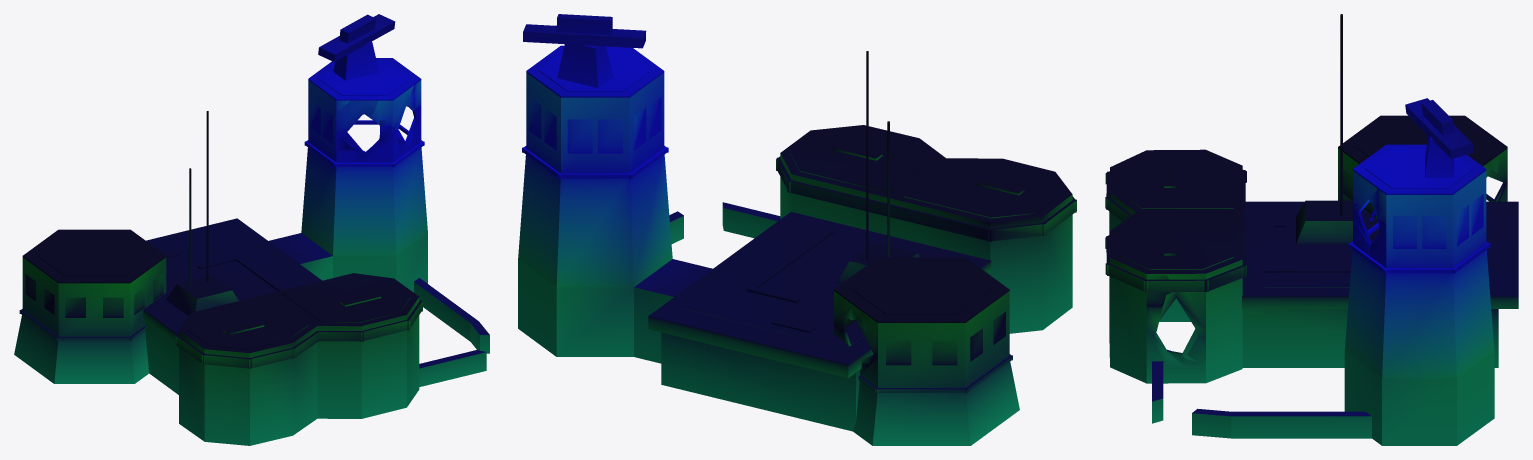
File: s_turretcontrol_damaged.glb
3 views of the same model, side by side, from view 1: azimuth 30°, elevation 25°; view 2: azimuth 150°, elevation 25°; view 3: azimuth 270°, elevation 25° (orthographic). The views are drawn at different scales.
Parts seen in each view (by area): view 1: lod0_S_TurretControl, lod1_S_TurretControl, lod0_Radar; view 2: lod0_S_TurretControl, lod0_Radar, lod1_S_TurretControl; view 3: lod0_S_TurretControl, lod1_S_TurretControl, lod0_Radar.
Boxes of the visible parts, x1,y1,x2,y2 form: lod0_S_TurretControl: (14,41,489,445); lod1_S_TurretControl: (336,85,421,162); lod0_Radar: (318,14,395,61); lod0_S_TurretControl: (518,44,1076,445); lod0_Radar: (523,14,646,48); lod1_S_TurretControl: (834,293,877,387); lod0_S_TurretControl: (1105,14,1518,445); lod1_S_TurretControl: (1146,148,1507,367); lod0_Radar: (1405,98,1473,158).
Size of the model in its own units: 25.28 by 16.73 by 20.35.
